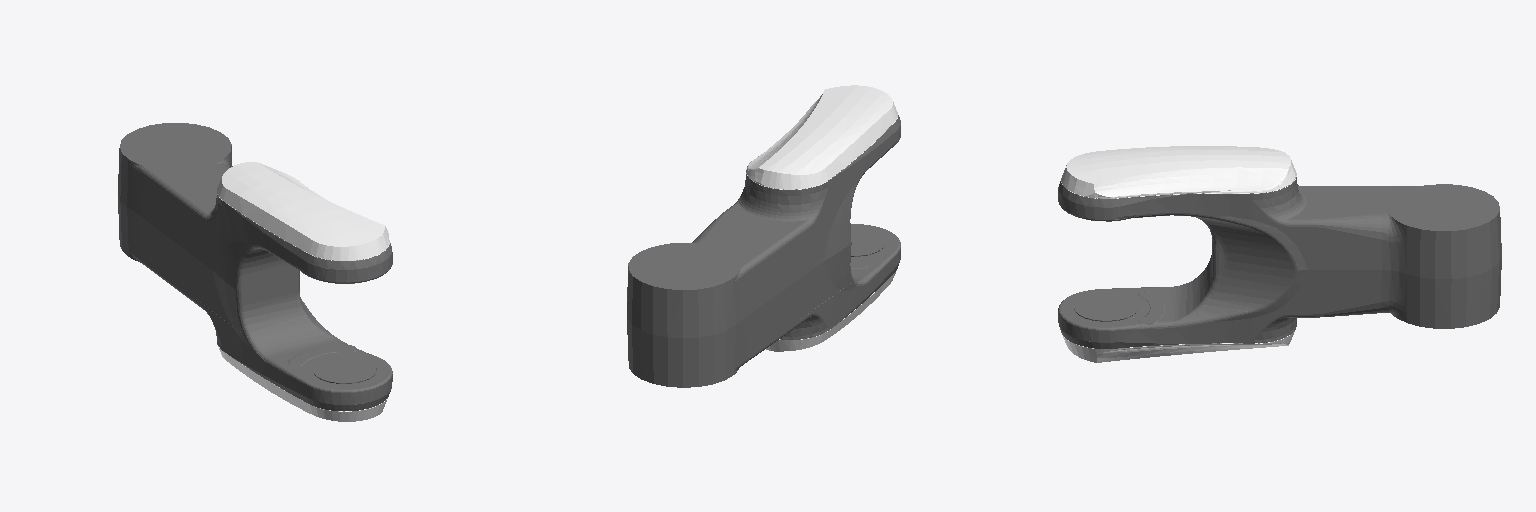
3 renders of one model, left to right at view 1: azimuth 30°, elevation 25°; view 2: azimuth 150°, elevation 25°; view 3: azimuth 270°, elevation 25°, orthographic.
Visible parts, largest first — view 1: L0300_2ndArm_CMZ05-01_00\ﾊﾟｰﾂ ﾎﾞﾃﾞｨｰ; view 2: L0300_2ndArm_CMZ05-01_00\ﾊﾟｰﾂ ﾎﾞﾃﾞｨｰ; view 3: L0300_2ndArm_CMZ05-01_00\ﾊﾟｰﾂ ﾎﾞﾃﾞｨｰ.
Boxes of the visible parts, x1,y1,x2,y2 form: L0300_2ndArm_CMZ05-01_00\ﾊﾟｰﾂ ﾎﾞﾃﾞｨｰ: [118, 123, 392, 421]; L0300_2ndArm_CMZ05-01_00\ﾊﾟｰﾂ ﾎﾞﾃﾞｨｰ: [627, 85, 900, 387]; L0300_2ndArm_CMZ05-01_00\ﾊﾟｰﾂ ﾎﾞﾃﾞｨｰ: [1058, 146, 1501, 362].
Size of the model in its own units: 0.1481 by 0.2574 by 0.552.